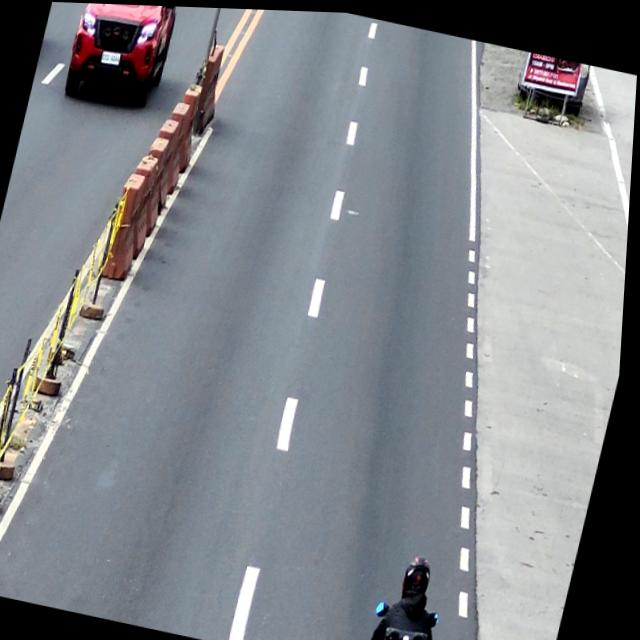Car: (60, 2, 186, 111)
License-Plate: (100, 49, 121, 66)
